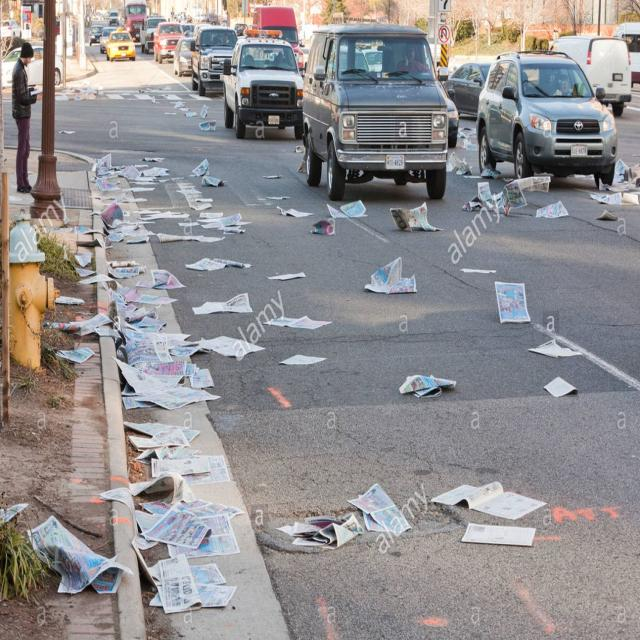garbage: (27, 129, 640, 640)
